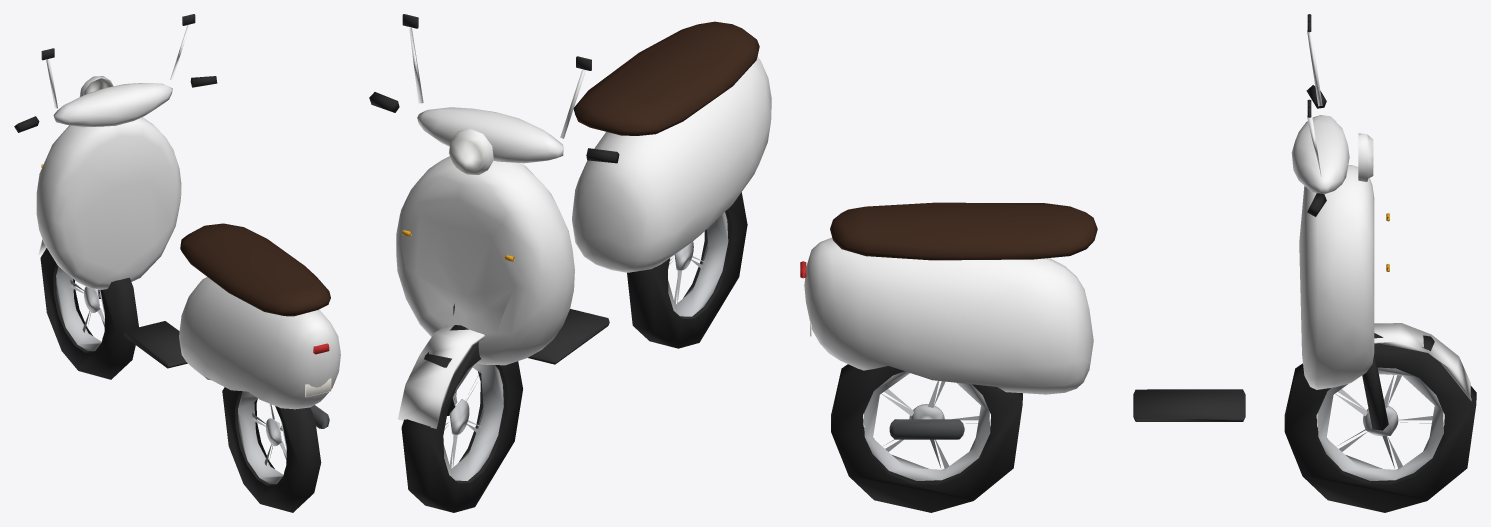
File: scooter_0_lo.glb
3 views of the same model, side by side, from view 1: azimuth 30°, elevation 25°; view 2: azimuth 150°, elevation 25°; view 3: azimuth 270°, elevation 25° (orthographic). The views are drawn at different scales.
Visible parts, largest first — view 1: body, wheel_1, wheel_0; view 2: body, wheel_0, wheel_1; view 3: body, wheel_0, wheel_1.
Part boxes in pixels (x1=…): body: x1=14, y1=14, x2=340, y2=428; wheel_1: x1=222, y1=387, x2=321, y2=512; wheel_0: x1=40, y1=248, x2=138, y2=379; body: x1=369, y1=14, x2=771, y2=428; wheel_0: x1=401, y1=325, x2=522, y2=512; wheel_1: x1=627, y1=192, x2=747, y2=348; body: x1=800, y1=14, x2=1471, y2=439; wheel_0: x1=1284, y1=333, x2=1476, y2=512; wheel_1: x1=831, y1=364, x2=1022, y2=512.
Bounding box in the file's own units: 0.7686 × 1.32 × 1.8.
